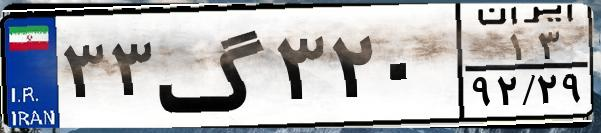0: (385, 28, 445, 110)
1: (508, 27, 537, 80)
2: (330, 28, 385, 110), (495, 70, 520, 125), (535, 70, 560, 125)
3: (270, 28, 330, 110), (57, 26, 110, 100), (110, 28, 156, 98), (537, 27, 568, 80)
9: (560, 70, 590, 125), (470, 70, 495, 125)
گ: (156, 12, 270, 120)
